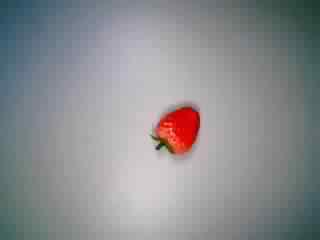strawberry: (142, 99, 208, 165)
